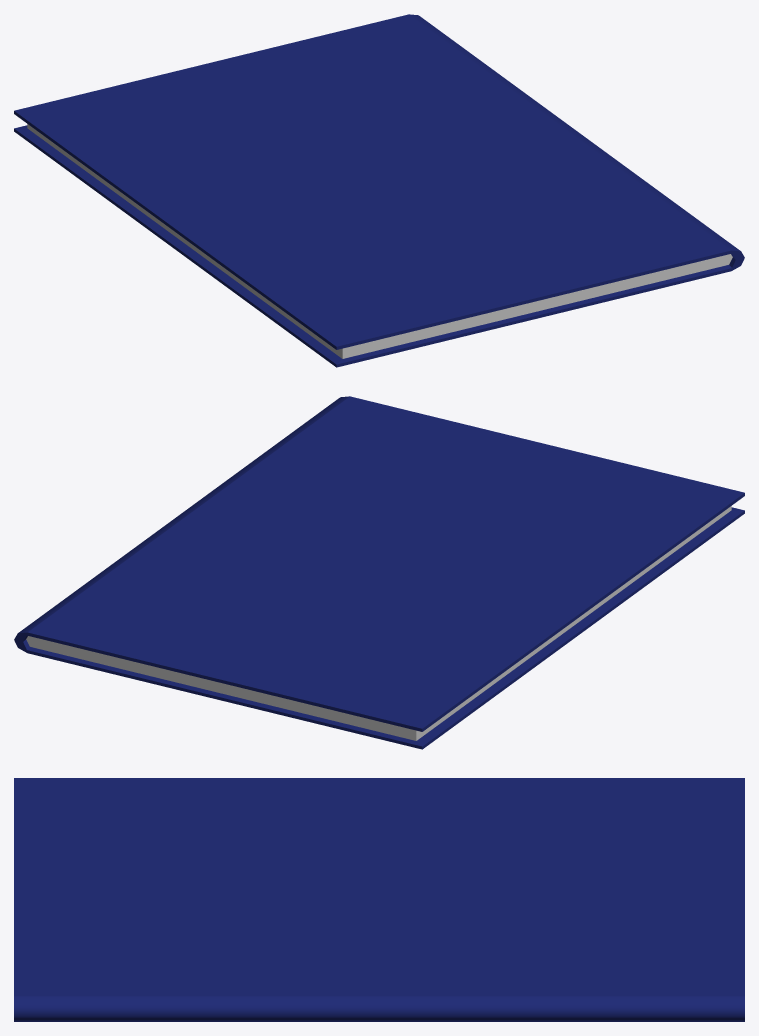
Rendered from MoveableMagazine01.fbx.
The picture shows the model from 3 angles, top to bottom: view 1: azimuth 30°, elevation 25°; view 2: azimuth 150°, elevation 25°; view 3: azimuth 270°, elevation 25°; orthographic projection. The views are drawn at different scales.
Parts seen in each view (by area): view 1: pasted__pCube6; view 2: pasted__pCube6; view 3: pasted__pCube6.
Boxes of the visible parts, x1,y1,x2,y2 form: pasted__pCube6: (14,14,744,367); pasted__pCube6: (14,396,744,749); pasted__pCube6: (14,778,744,1021).
Bounding box in the file's own units: 16.17 × 0.7861 × 22.11.
